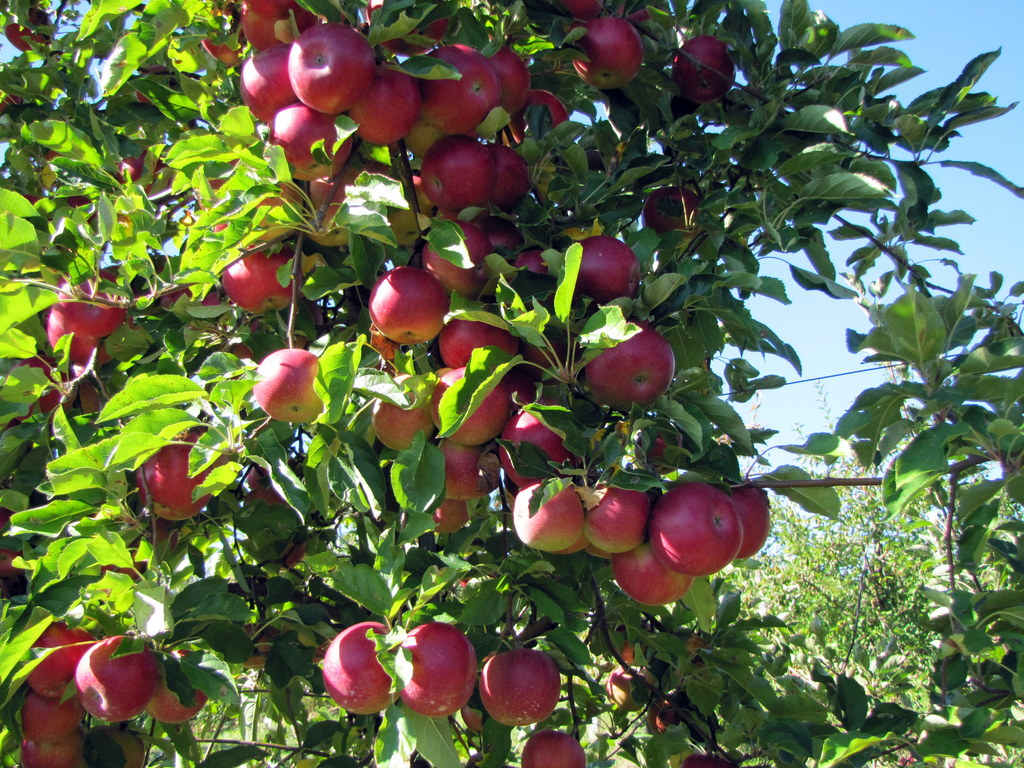Apple: (0, 0, 746, 767), (583, 325, 674, 417)
